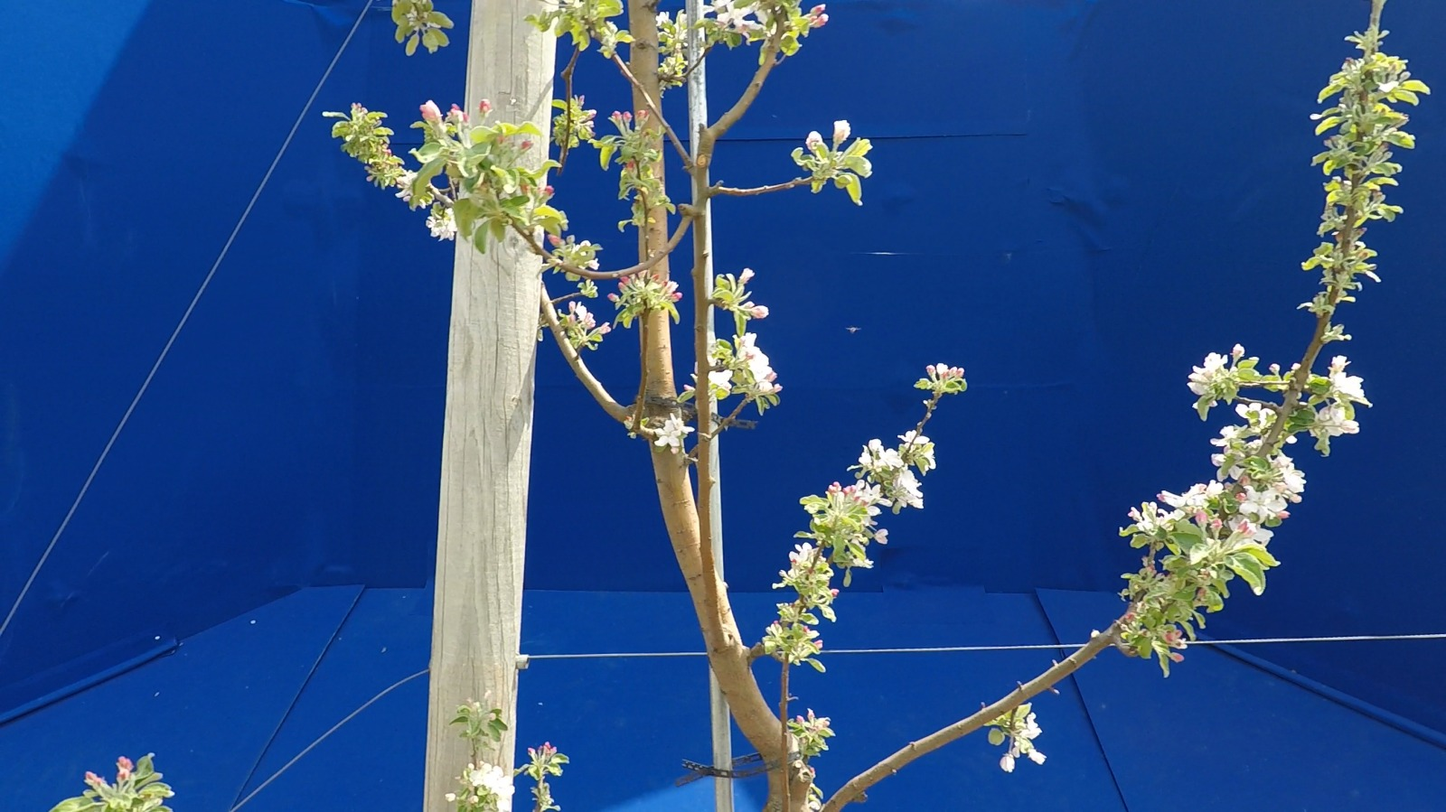flower: (1211, 425, 1306, 548), (842, 431, 924, 528), (733, 333, 783, 393), (698, 0, 768, 38), (469, 761, 515, 812), (1329, 356, 1372, 406), (641, 408, 695, 447), (1157, 481, 1229, 509), (1315, 397, 1359, 436), (427, 209, 463, 241), (1189, 353, 1228, 382), (1142, 502, 1186, 526), (1236, 403, 1275, 429), (421, 101, 452, 133), (569, 302, 596, 337), (396, 167, 419, 201), (790, 543, 820, 569), (1019, 713, 1042, 740), (709, 370, 733, 394), (1129, 508, 1154, 531), (1001, 742, 1020, 772), (833, 121, 850, 153), (85, 773, 107, 796), (937, 364, 964, 382), (806, 132, 829, 151), (921, 448, 936, 476), (738, 268, 755, 291), (664, 282, 682, 303), (118, 757, 134, 780), (1230, 344, 1244, 370), (1028, 746, 1047, 764), (1188, 382, 1210, 396), (588, 323, 611, 336), (1377, 81, 1400, 93), (751, 306, 769, 320), (656, 13, 673, 26), (826, 482, 841, 496), (876, 529, 888, 545), (926, 365, 937, 382), (914, 435, 930, 445), (930, 443, 934, 446)
